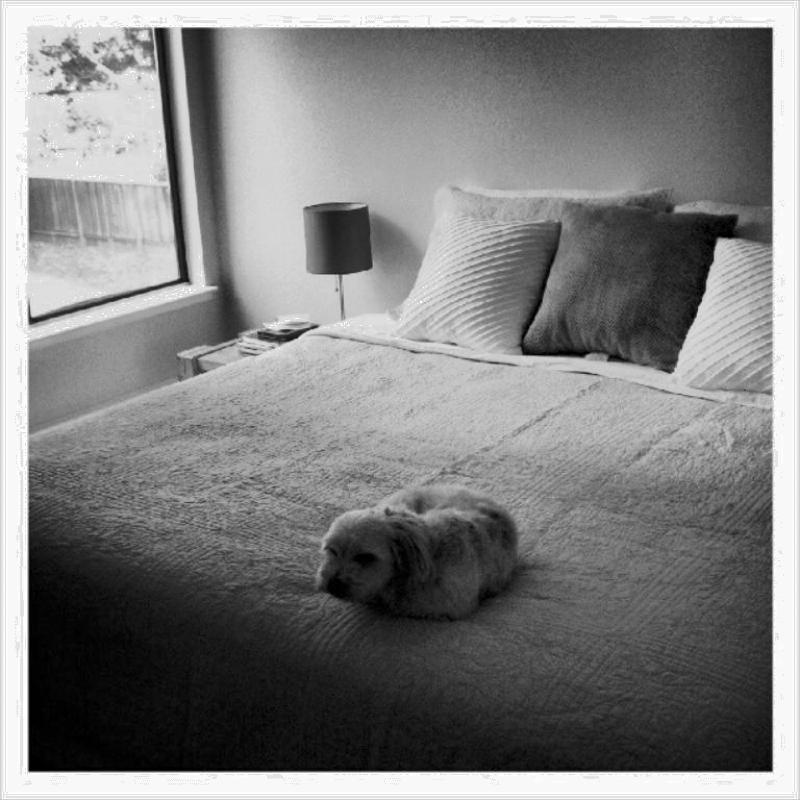pillow: (385, 179, 671, 323), (390, 215, 552, 353), (670, 237, 772, 395), (670, 204, 778, 242)
